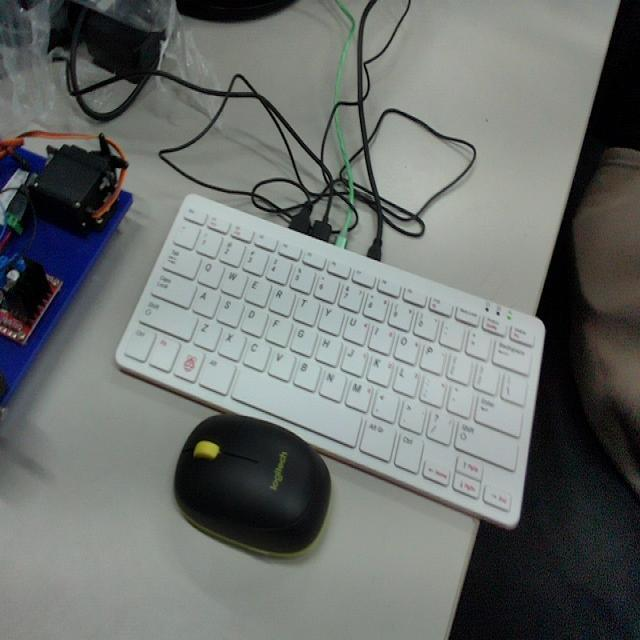keyboard: (117, 199, 539, 522)
